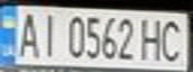0: (63, 11, 84, 60)
2: (115, 14, 139, 61)
5: (81, 12, 103, 61)
6: (100, 12, 121, 61)
A: (12, 8, 42, 59)
C: (157, 16, 187, 62)
H: (136, 15, 166, 62)
I: (36, 9, 60, 58)
